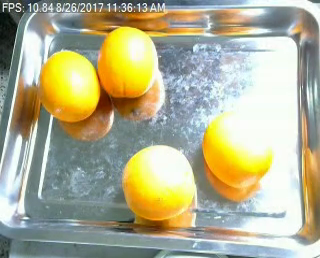Orange: (122, 144, 196, 219), (204, 113, 271, 185), (39, 49, 100, 121), (98, 26, 157, 98)
